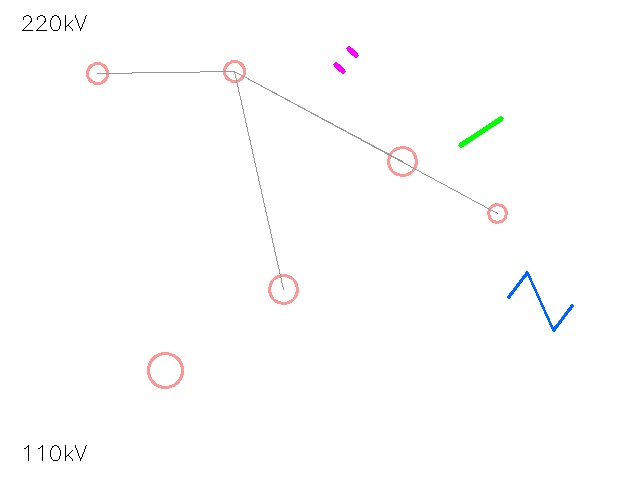busbar: (451, 102, 511, 162)
capacitor: (329, 43, 363, 77)
circuit_breaker: (509, 270, 571, 332)
disconnect_switch: (213, 50, 255, 92)
fuse: (254, 260, 312, 318)
load_break_switch: (479, 195, 515, 231)
surge_arrester: (373, 132, 431, 190)
voltage_transformer: (131, 336, 199, 404), (76, 52, 118, 94)
